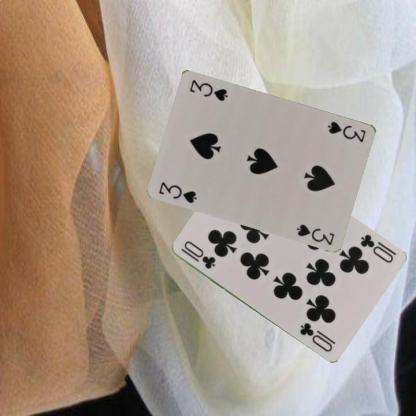10c: (357, 231, 395, 265), (178, 238, 217, 270)
3s: (326, 118, 368, 144), (156, 178, 198, 204)
